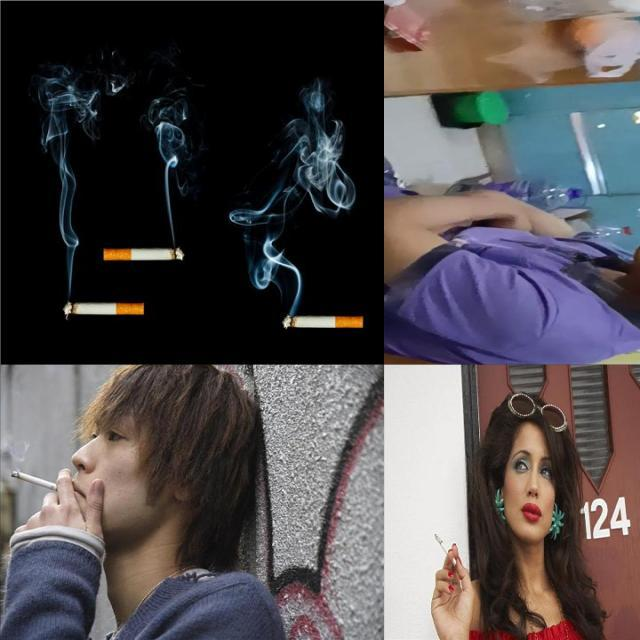smoking: (10, 470, 72, 494), (62, 300, 145, 316), (102, 247, 184, 263), (281, 315, 364, 329), (433, 532, 457, 568)
